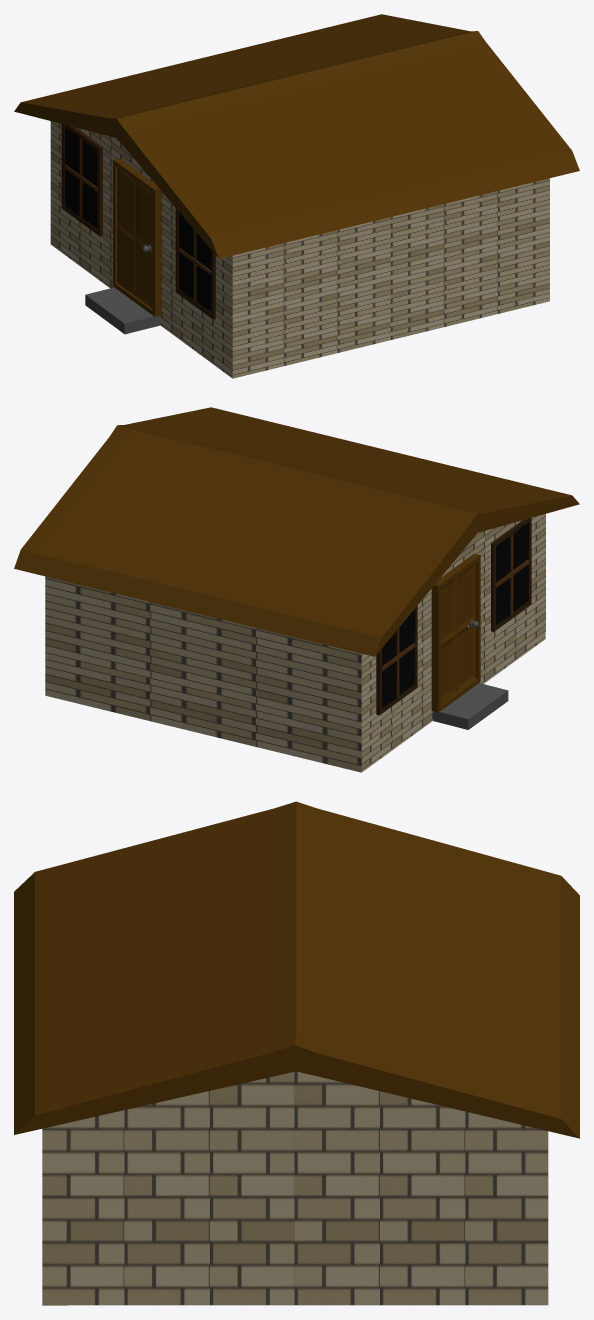
The model's file is house1.glb.
3 views of the same model, one above another, from view 1: azimuth 30°, elevation 25°; view 2: azimuth 150°, elevation 25°; view 3: azimuth 270°, elevation 25° (orthographic). The views are drawn at different scales.
Parts seen in each view (by area): view 1: Cube, Plane.001, Plane.002, Cube.003, Cube.001, Cube.002, Plane; view 2: Cube, Plane.003, Plane.002, Cube.003, Cube.002, Cube.001, Plane; view 3: Cube, Plane.004.
Part boxes in pixels (x1=…): Cube: x1=14, y1=14, x2=579, y2=258; Plane.001: x1=232, y1=178, x2=549, y2=378; Plane.002: x1=50, y1=121, x2=232, y2=378; Cube.003: x1=113, y1=158, x2=161, y2=317; Cube.001: x1=61, y1=124, x2=102, y2=235; Cube.002: x1=175, y1=208, x2=215, y2=319; Plane: x1=85, y1=287, x2=160, y2=334; Cube: x1=14, y1=407, x2=579, y2=656; Plane.003: x1=45, y1=576, x2=361, y2=772; Plane.002: x1=361, y1=514, x2=545, y2=772; Cube.003: x1=431, y1=553, x2=480, y2=712; Cube.002: x1=491, y1=518, x2=531, y2=631; Cube.001: x1=376, y1=606, x2=417, y2=715; Plane: x1=433, y1=683, x2=508, y2=729; Cube: x1=14, y1=801, x2=579, y2=1138; Plane.004: x1=42, y1=1071, x2=548, y2=1305.
Bounding box in the file's own units: 44.7 × 22.81 × 42.61.
Materials: 7 (7 with a texture image).
